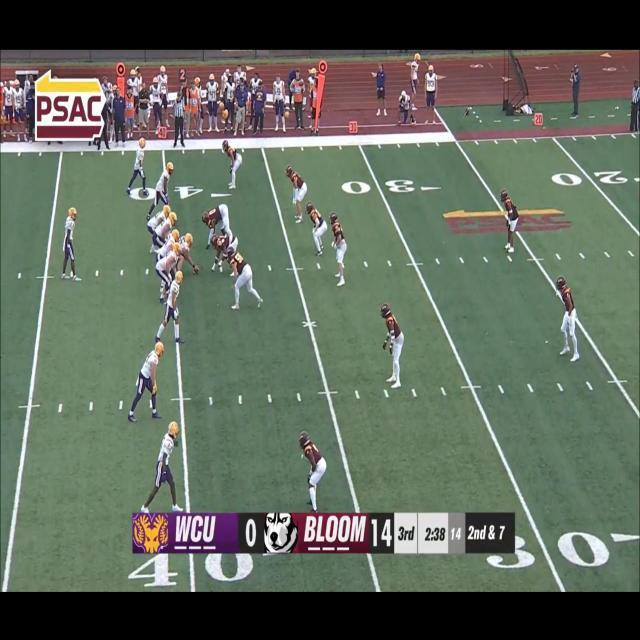football: (192, 263, 200, 276)
